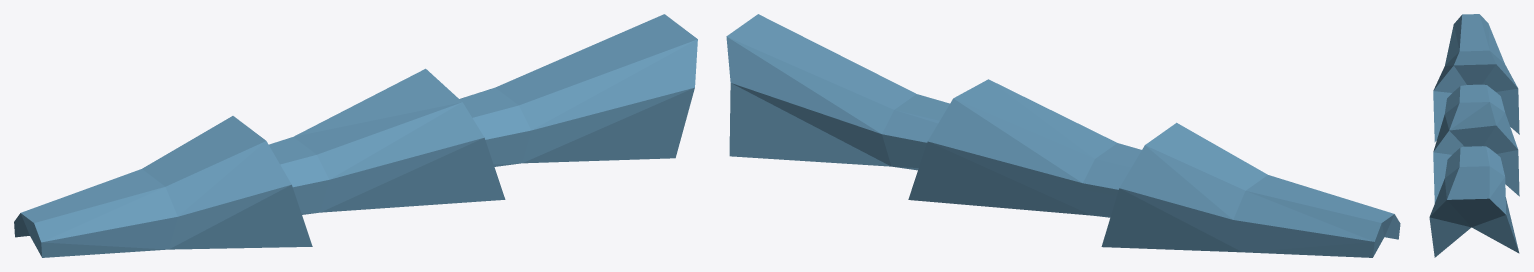
The model's file is ROOF_tile_up_1.fbx.
3 renders of one model, left to right at view 1: azimuth 30°, elevation 25°; view 2: azimuth 150°, elevation 25°; view 3: azimuth 270°, elevation 25°, orthographic. The views are drawn at different scales.
Parts seen in each view (by area): view 1: ROOF_tile_up_1; view 2: ROOF_tile_up_1; view 3: ROOF_tile_up_1.
Boxes of the visible parts, x1,y1,x2,y2 form: ROOF_tile_up_1: (14, 14, 697, 257); ROOF_tile_up_1: (726, 14, 1400, 257); ROOF_tile_up_1: (1429, 14, 1519, 257).
Size of the model in its own units: 115 by 17.84 by 21.1.
